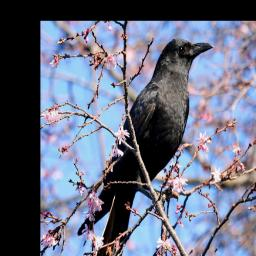Crow: (77, 36, 213, 256)
